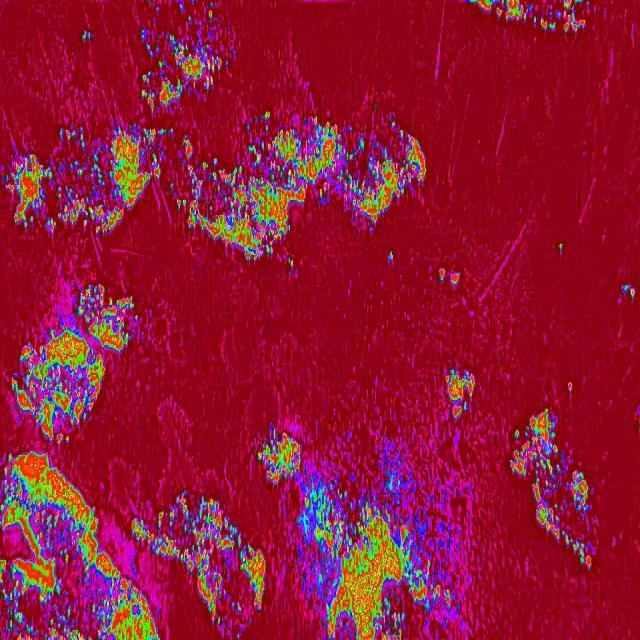fire: (177, 109, 429, 267), (295, 457, 466, 640), (0, 450, 161, 640), (2, 117, 175, 236), (12, 282, 137, 443), (162, 492, 266, 640), (508, 409, 595, 573), (137, 29, 236, 111), (466, 0, 590, 36), (260, 428, 303, 482), (442, 366, 473, 416), (436, 266, 460, 286), (622, 283, 634, 301), (206, 0, 216, 21), (81, 31, 92, 43), (556, 240, 564, 254), (566, 379, 574, 391), (177, 1, 187, 10), (186, 14, 192, 22), (190, 0, 198, 5), (154, 6, 158, 14)
